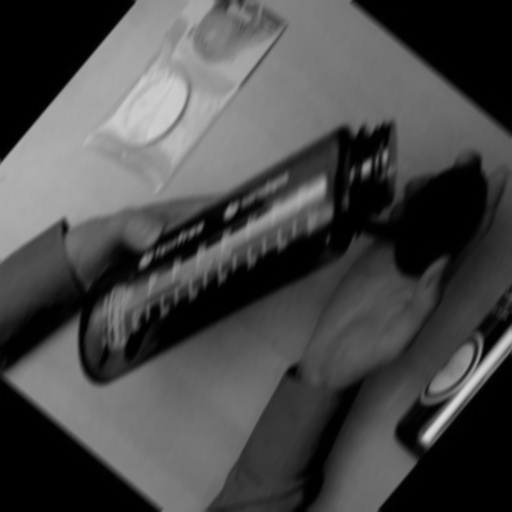bottle: (38, 36, 437, 461)
